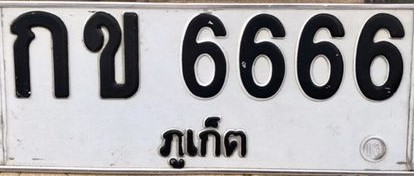txt01: (8, 9, 71, 100)
txt02: (81, 10, 141, 101)
